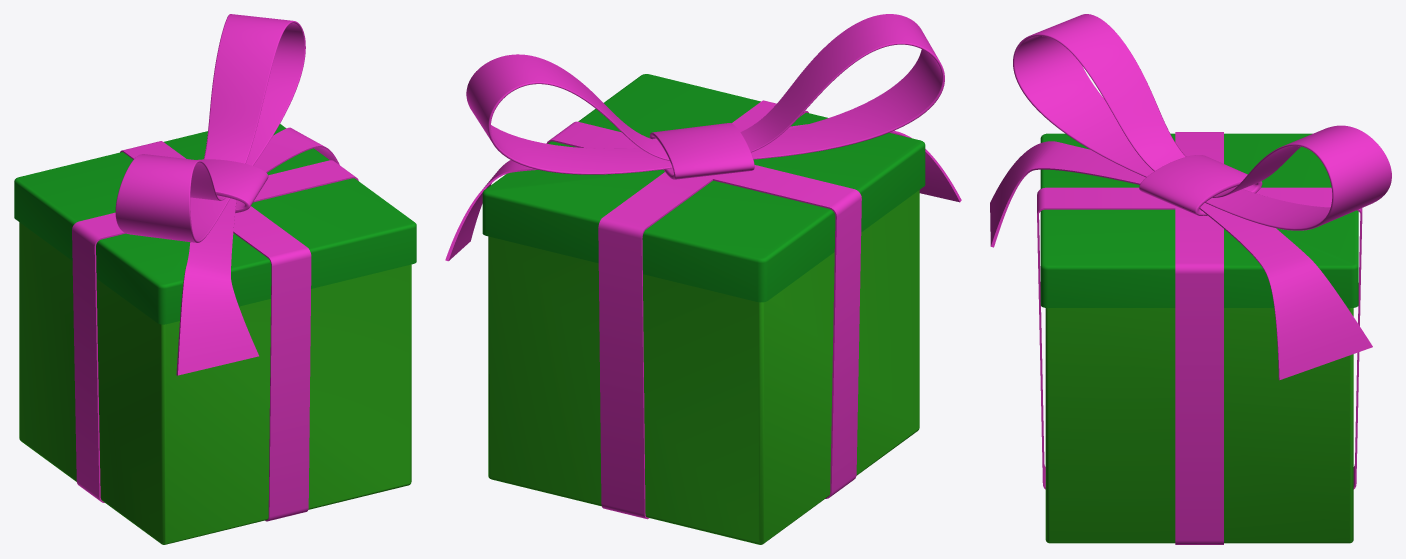
The model's file is giftbox.fbx.
The picture shows the model from 3 angles, left to right: view 1: azimuth 30°, elevation 25°; view 2: azimuth 150°, elevation 25°; view 3: azimuth 270°, elevation 25°; orthographic projection. The views are drawn at different scales.
Visible parts, largest first — view 1: Cube, Ribbon, Cube.002, Cube.003, Cube.001; view 2: Cube, Cube.002, Ribbon, Cube.003, Cube.001; view 3: Cube, Ribbon, Cube.002, Cube.001, Cube.003.
Boxes of the visible parts, bbox=[...] form: Cube: bbox=[19, 222, 411, 544]; Ribbon: bbox=[115, 14, 339, 375]; Cube.002: bbox=[14, 124, 416, 324]; Cube.003: bbox=[120, 141, 311, 521]; Cube.001: bbox=[72, 160, 358, 502]; Cube: bbox=[488, 190, 919, 544]; Cube.002: bbox=[482, 74, 925, 302]; Ribbon: bbox=[445, 14, 961, 261]; Cube.003: bbox=[598, 100, 808, 519]; Cube.001: bbox=[546, 121, 861, 498]; Cube: bbox=[1045, 308, 1353, 543]; Ribbon: bbox=[990, 14, 1391, 380]; Cube.002: bbox=[1040, 133, 1358, 307]; Cube.001: bbox=[1175, 132, 1223, 544]; Cube.003: bbox=[1037, 187, 1362, 489].
Size of the model in its own units: 269 by 285 by 261.
